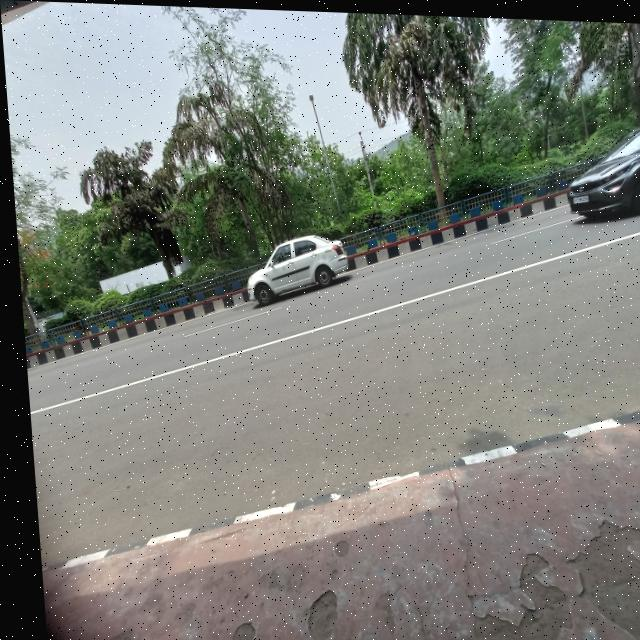car: (237, 219, 360, 310), (552, 121, 640, 241)
